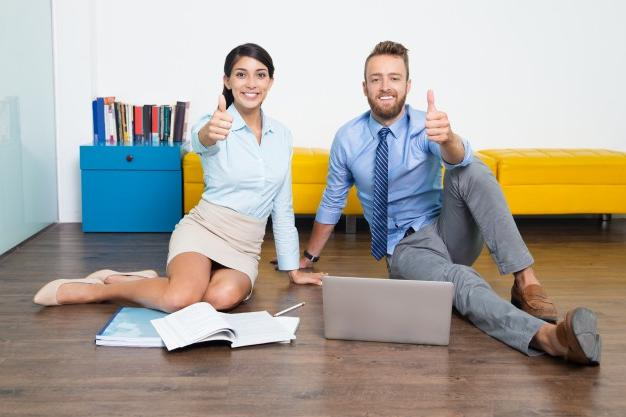thumbsup: (426, 90, 451, 142), (208, 95, 233, 140)
